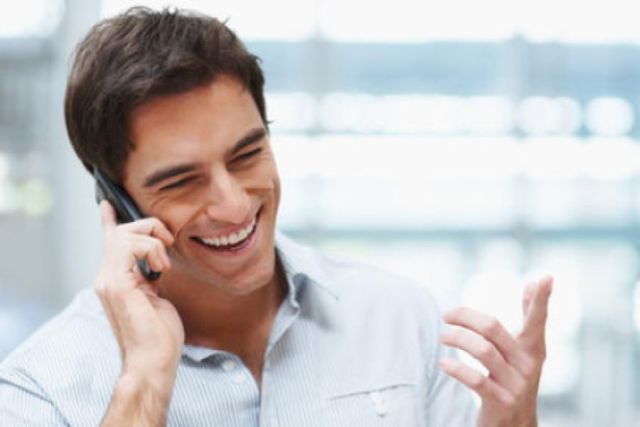phone: (83, 170, 167, 282)
talk: (83, 119, 282, 356)
